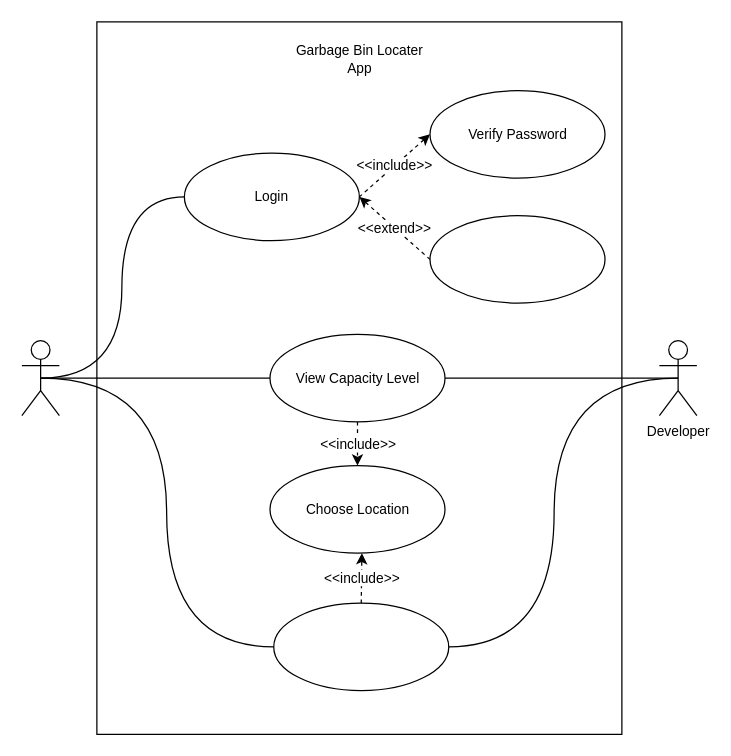
Image size: 731x756. Some labels were removed from this diagram. The shapes that lost their labels are listed below. From the top down, each one's box as (x1, y1, x2, y2) in pixels, then its label:
(429, 214, 605, 303): Display Login Error
(21, 339, 59, 416): User
(272, 602, 449, 691): Check availability
